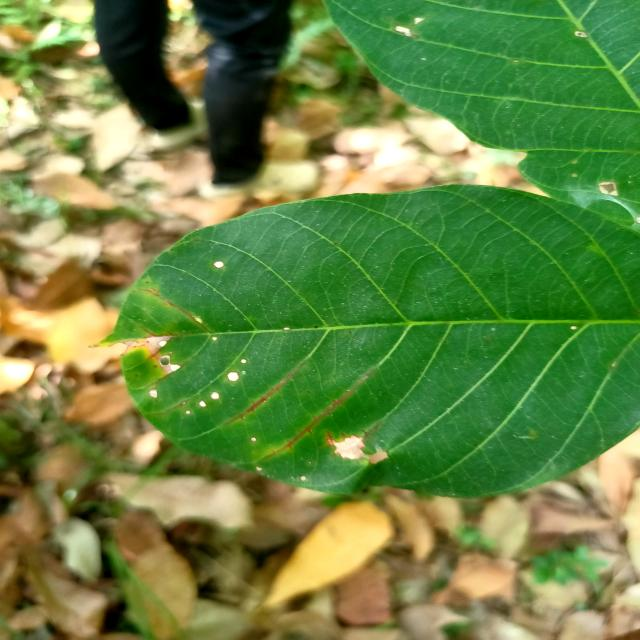Corynespora: (263, 365, 379, 460), (228, 366, 300, 426)
Leaf-Blight: (121, 336, 172, 355), (334, 436, 366, 460), (159, 355, 181, 374), (228, 372, 238, 381), (211, 392, 220, 399), (150, 389, 157, 398), (215, 261, 223, 268), (200, 400, 207, 407)
